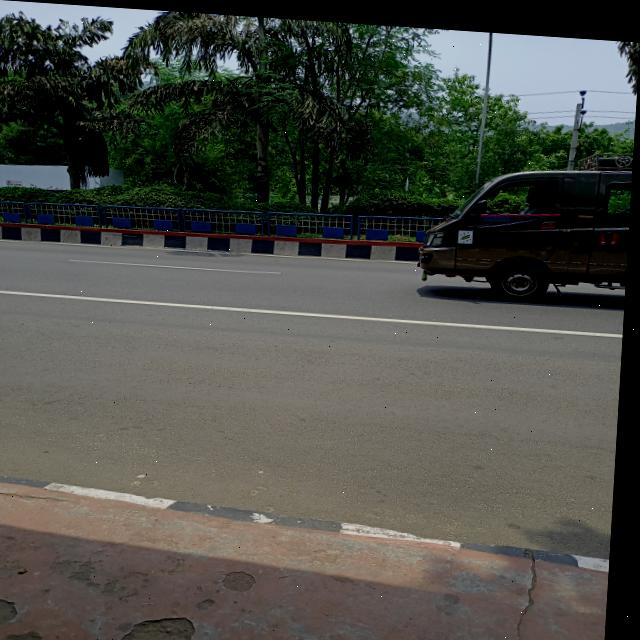car: (412, 137, 635, 302)
